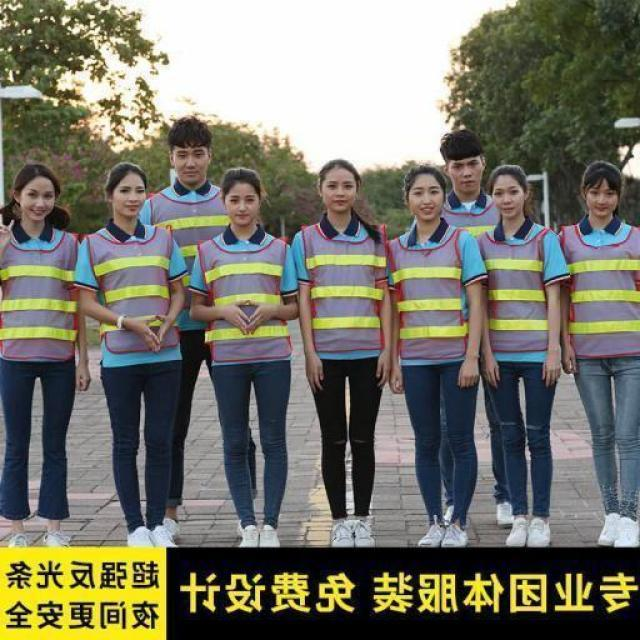boots: (593, 510, 627, 546), (526, 510, 556, 545), (501, 512, 530, 548), (612, 510, 640, 546), (326, 512, 354, 547), (252, 522, 287, 550), (351, 518, 382, 548), (437, 522, 472, 548), (414, 518, 444, 548), (150, 523, 180, 549), (236, 519, 262, 547), (121, 524, 152, 546)
vest: (82, 225, 186, 356), (198, 229, 290, 367), (296, 221, 389, 355), (552, 220, 638, 364), (472, 222, 562, 358), (388, 224, 472, 362), (1, 226, 80, 362), (147, 188, 231, 283)
